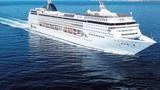youlun: (26, 1, 155, 53)
